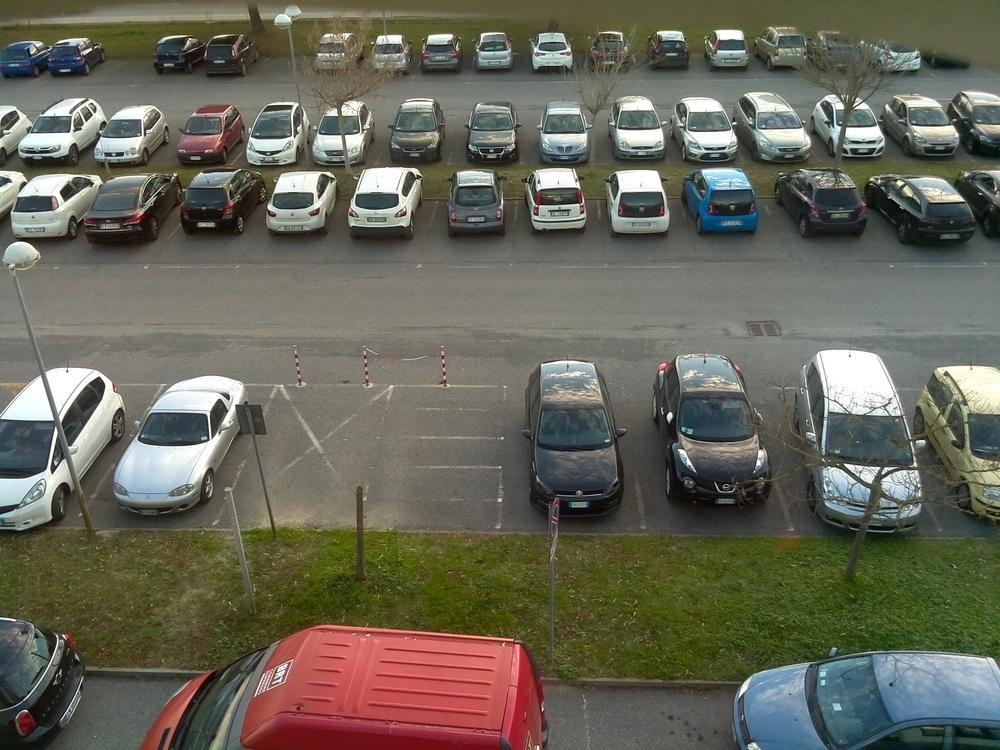empty: (225, 631, 548, 750), (782, 348, 952, 542), (740, 650, 1000, 750), (649, 350, 792, 509), (108, 375, 248, 517), (3, 365, 119, 534), (523, 355, 638, 518), (4, 618, 88, 744), (931, 362, 994, 513), (871, 171, 987, 251), (74, 177, 175, 247), (781, 167, 875, 240), (340, 163, 424, 241), (683, 167, 772, 239), (7, 172, 94, 242), (601, 169, 684, 240), (737, 97, 822, 164), (438, 167, 517, 239), (883, 97, 970, 162), (91, 103, 173, 171), (18, 101, 104, 165), (178, 170, 261, 236), (258, 171, 341, 237), (670, 93, 750, 160), (521, 168, 595, 236), (168, 108, 247, 167), (379, 101, 452, 164), (822, 95, 895, 157), (311, 104, 380, 169), (238, 105, 309, 167), (456, 105, 527, 166), (532, 104, 603, 165), (605, 96, 673, 159), (199, 33, 262, 78), (40, 37, 106, 79), (811, 34, 871, 79), (305, 32, 366, 76), (701, 27, 758, 72), (757, 28, 814, 73), (528, 33, 584, 76), (960, 95, 999, 155), (643, 30, 697, 73), (867, 41, 933, 75), (152, 35, 207, 75), (584, 31, 636, 73), (417, 34, 469, 74), (969, 174, 999, 241), (470, 33, 521, 72), (0, 41, 51, 79), (369, 33, 416, 73), (2, 110, 30, 164)
occupied: (110, 48, 159, 77)
